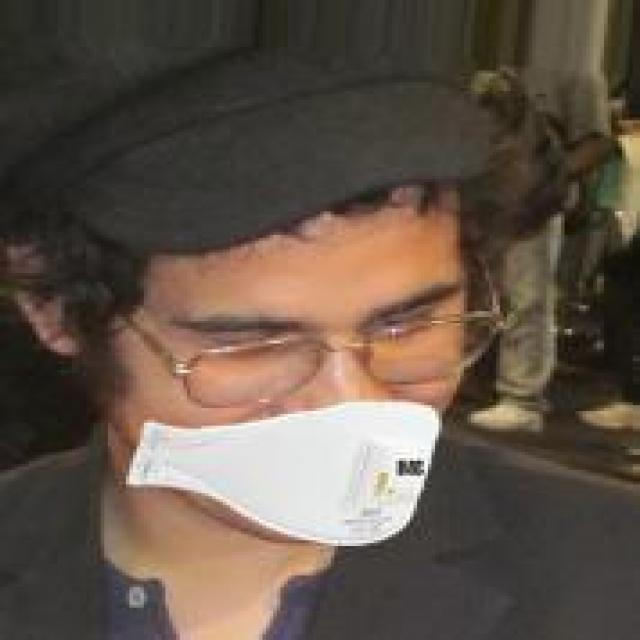mask: (36, 109, 554, 576)
